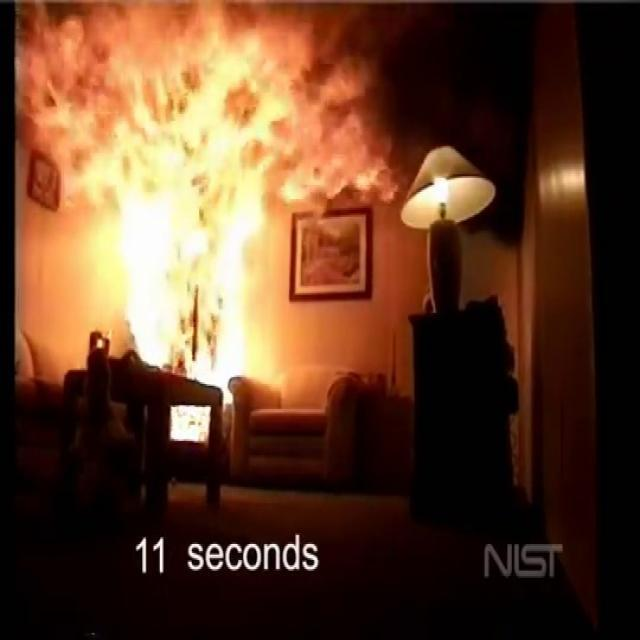Fire: (37, 0, 364, 404)
